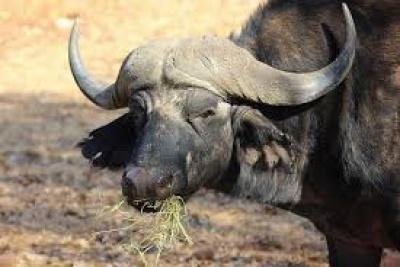buffalo: (69, 0, 399, 266)
